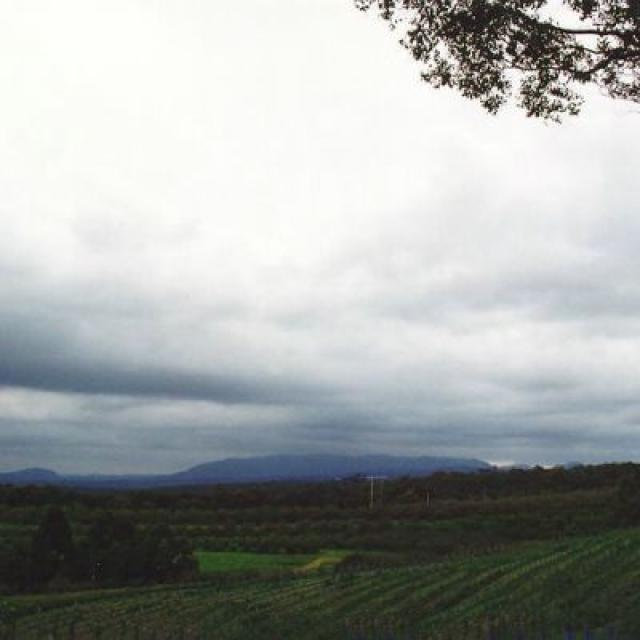Sc: (23, 127, 640, 401)
